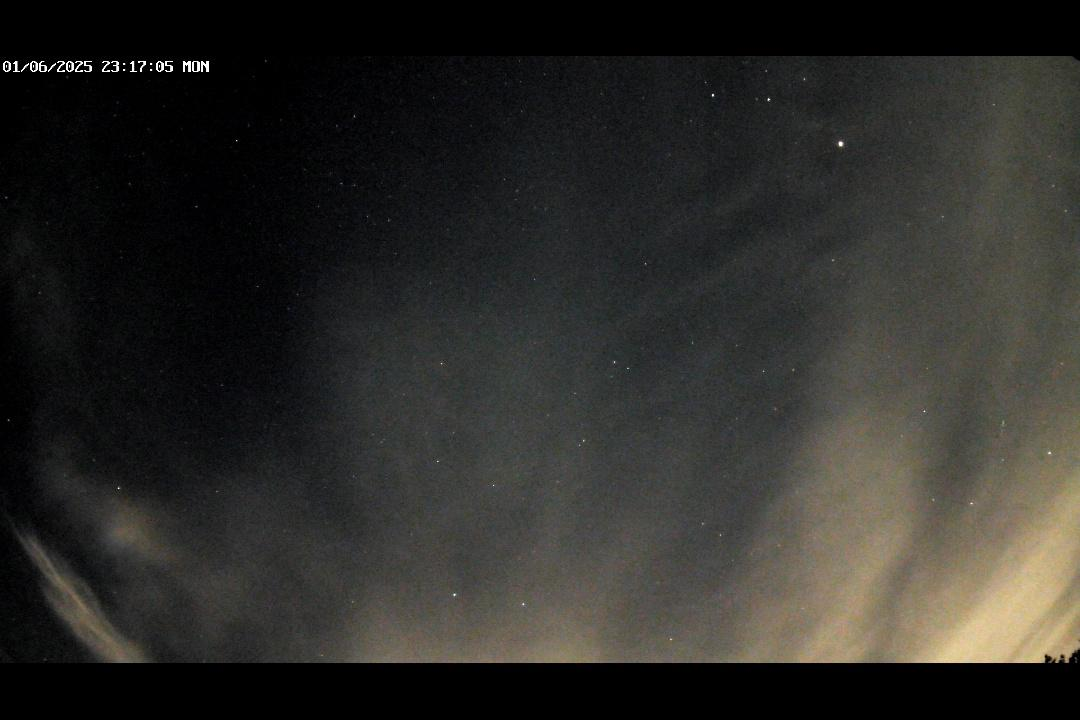Plane: (996, 413, 1012, 442)
